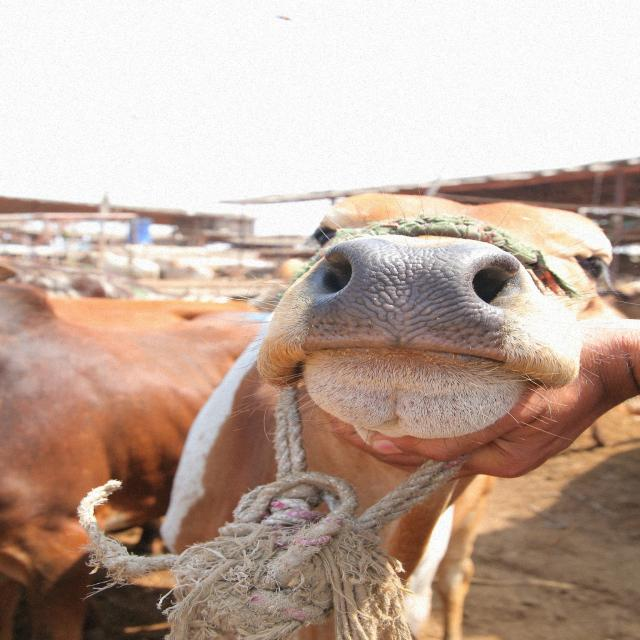muzzles: (312, 232, 532, 368)
